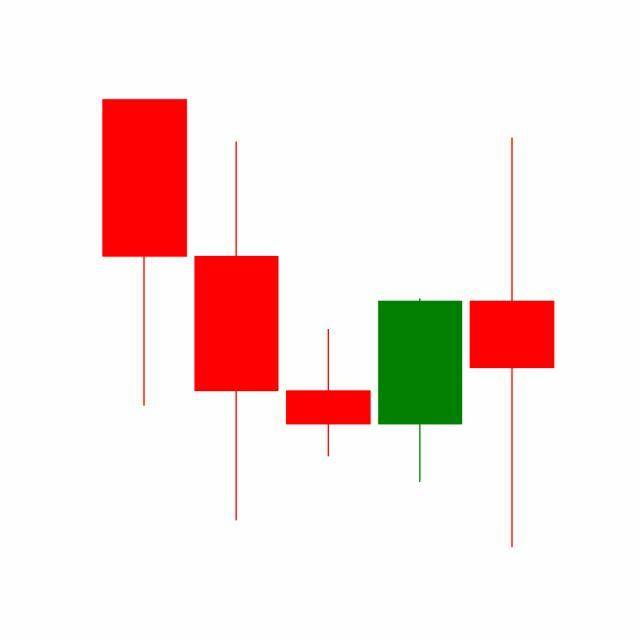Spinning Top: (466, 133, 559, 552)
